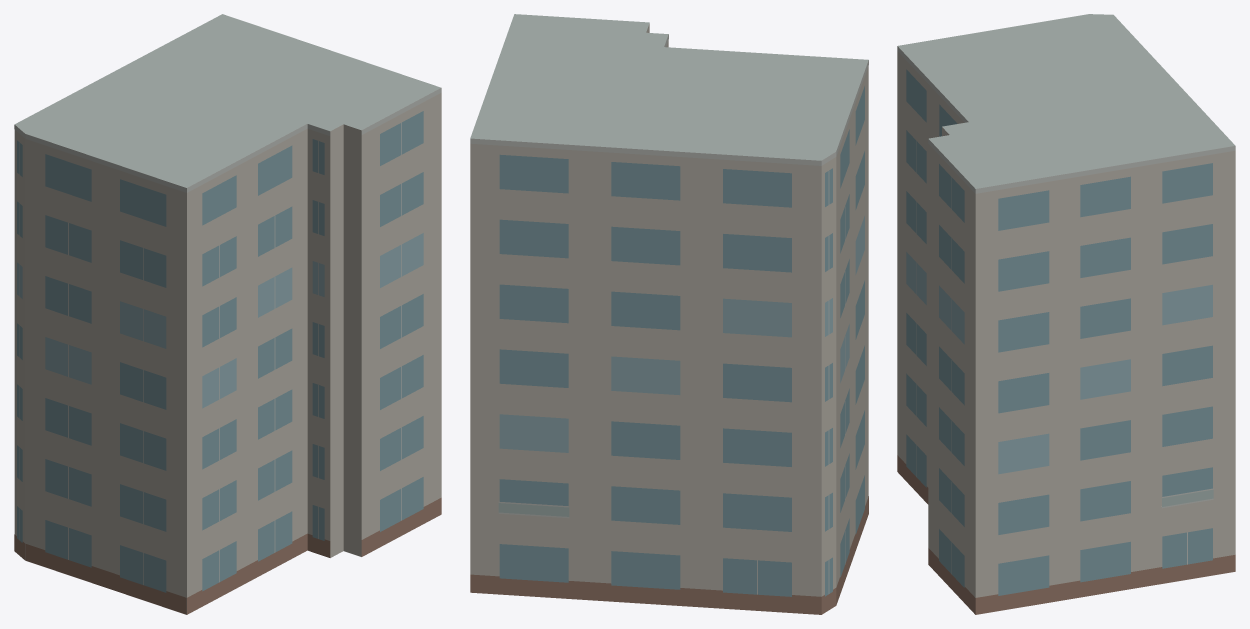
Rendered from survey-upis-32858603.glb.
The picture shows the model from 3 angles, left to right: view 1: azimuth 30°, elevation 25°; view 2: azimuth 150°, elevation 25°; view 3: azimuth 270°, elevation 25°; orthographic projection. The views are drawn at different scales.
Visible parts, largest first — view 1: survey-upis-32858603.tmp; view 2: survey-upis-32858603.tmp; view 3: survey-upis-32858603.tmp.
Boxes of the visible parts, box(x1,y1,x2,y2) form: survey-upis-32858603.tmp: box(14, 14, 441, 614); survey-upis-32858603.tmp: box(470, 14, 868, 614); survey-upis-32858603.tmp: box(897, 14, 1235, 614).
Size of the model in its own units: 18.82 by 21.35 by 15.38.
